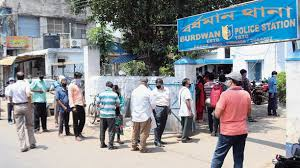mask: (221, 72, 241, 90), (154, 77, 166, 90), (73, 71, 83, 86), (181, 78, 193, 89), (59, 75, 67, 88), (269, 68, 277, 78), (38, 73, 44, 79)
